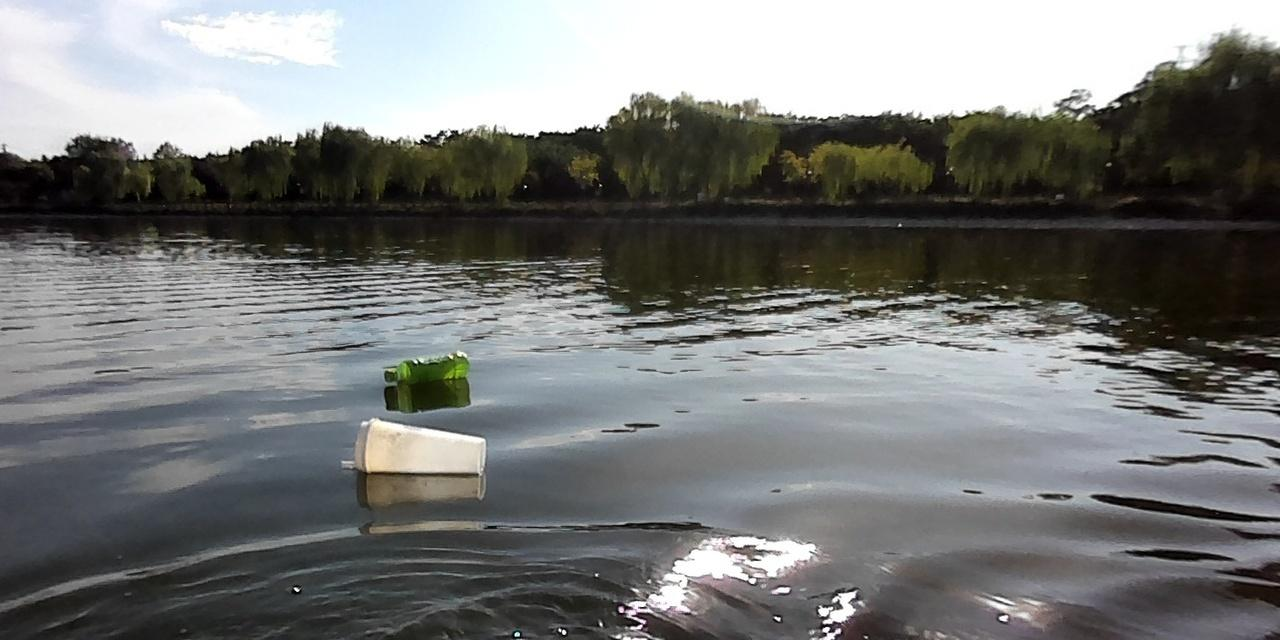bottle: (351, 415, 487, 474), (384, 350, 468, 381)
